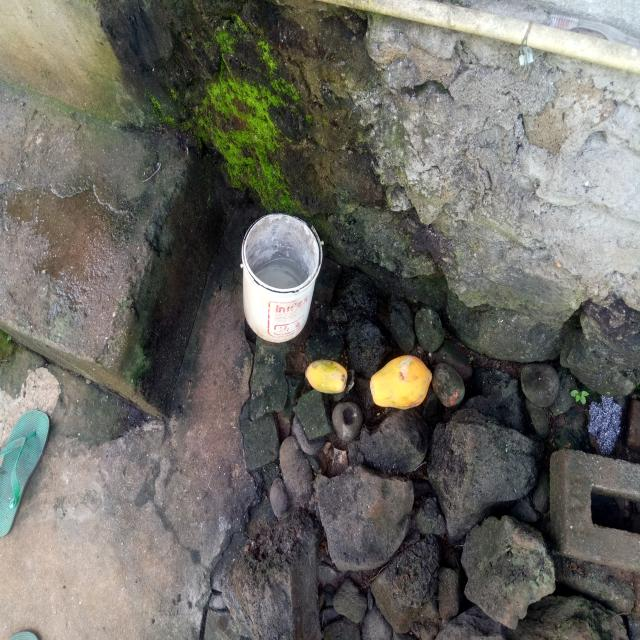Pepaya rippen: (368, 354, 436, 419), (301, 359, 349, 395)
